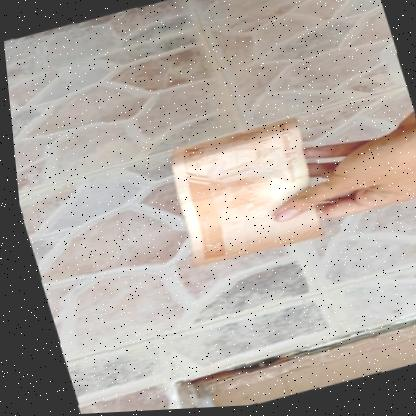twenty-back-vef: (151, 117, 328, 273)
